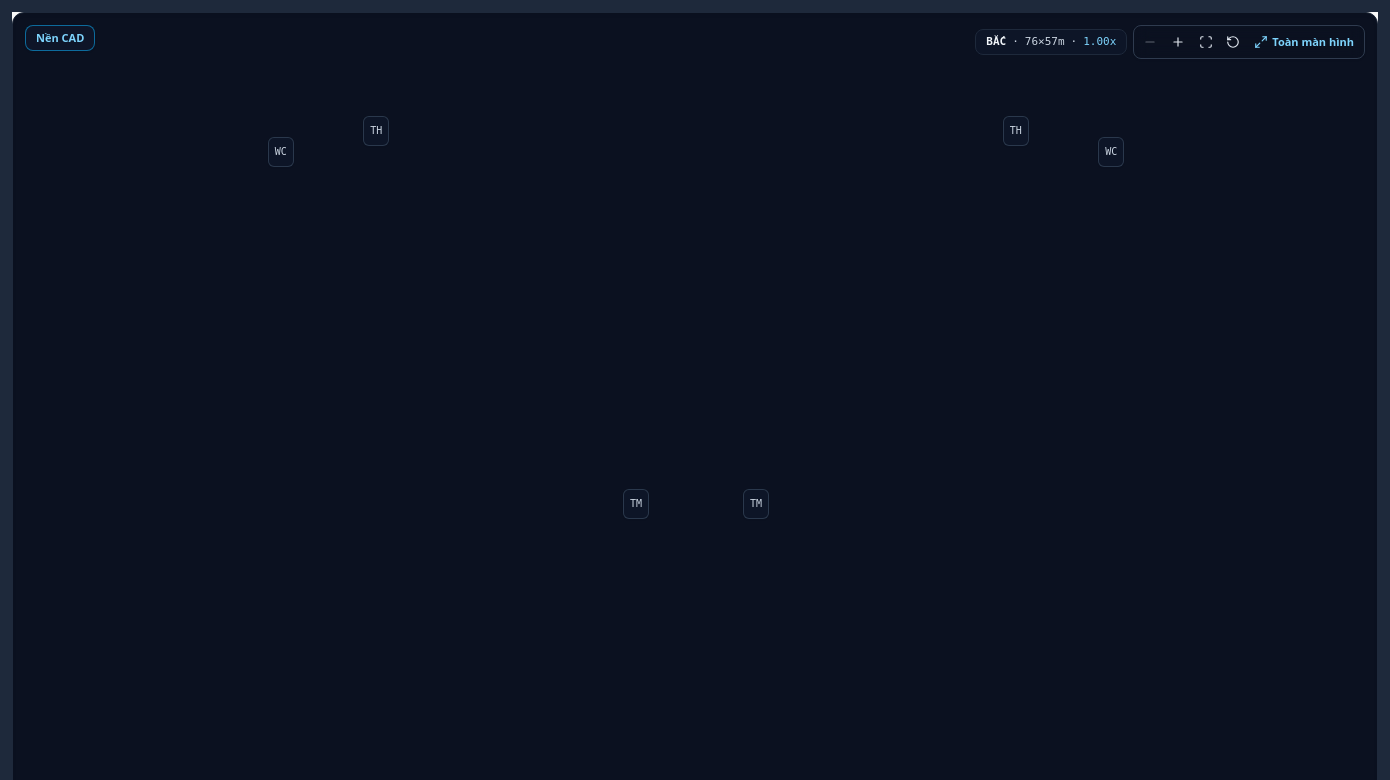
Giai đoạn 1: Layout Tối Đa Không Gian, ManagerSummaryStrip, Fit-to-View, Zoom/Pan Mượt & Minimap › TC-G1-05: Nút + / − / Fit / Reset trên thanh công cụ bản đồ điều chỉnh scale mượt và bật/tắt Minimap
Expected: the text with test id "zoom-scale-label" reads "1.00x", [1083,34,1116,50]
Click the button with test id "zoom-in-btn".
click(1178, 42)  # box [1164,28,1192,56]
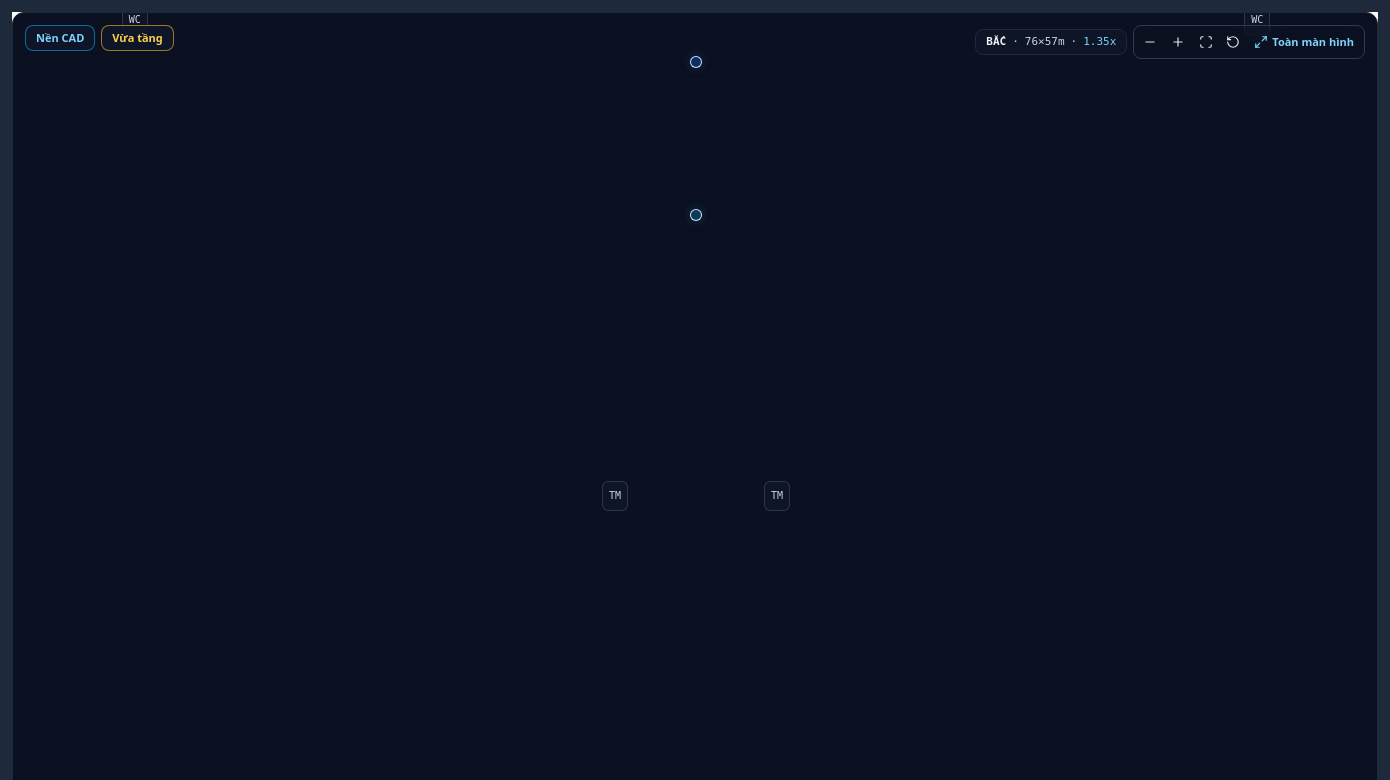
Expected: the text with test id "zoom-scale-label" reads "1.35x", [1083,34,1116,50]
Click the button with test id "zoom-in-btn".
click(1178, 42)  # box [1164,28,1192,56]
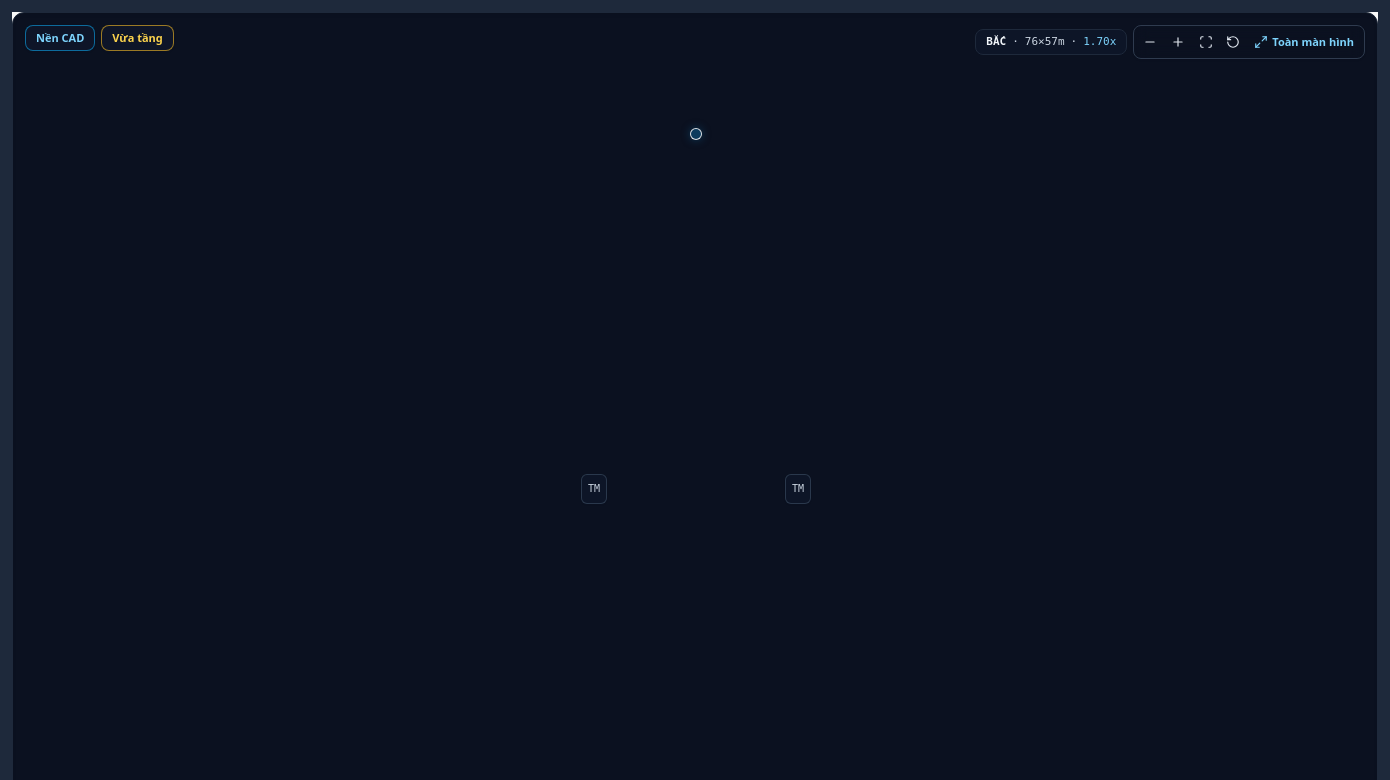
Expected: the text with test id "zoom-scale-label" reads "1.70x", [1083,34,1116,50]
Click the button with test id "zoom-reset-btn".
click(1233, 42)  # box [1220,28,1246,56]
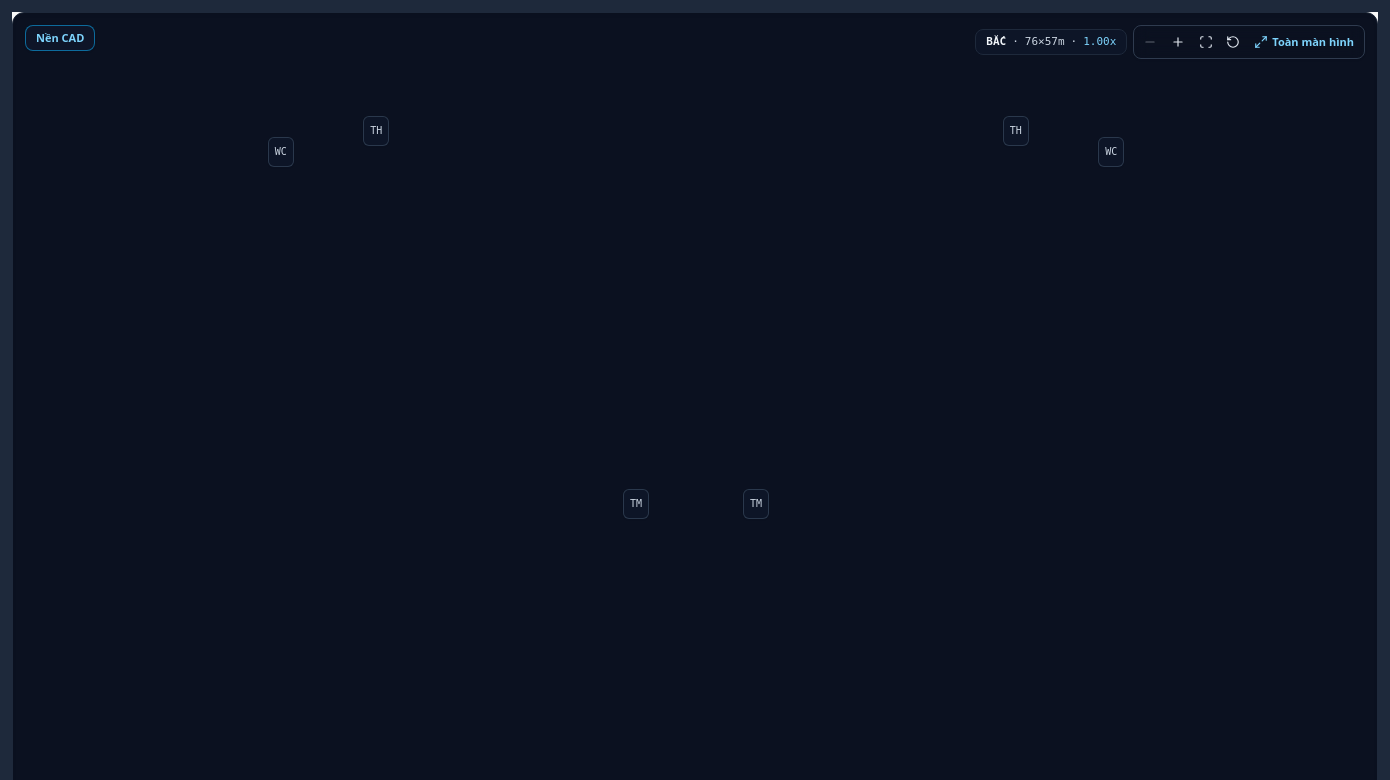
Expected: the text with test id "zoom-scale-label" reads "1.00x", [1083,34,1116,50]
